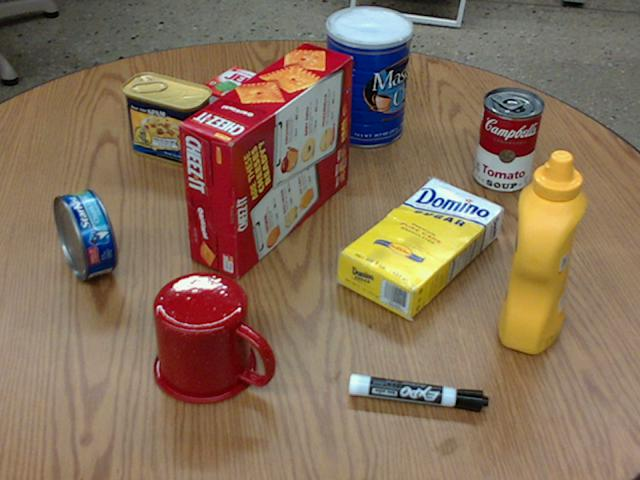cracker_box: (179, 42, 350, 278)
gelatin_box: (199, 65, 285, 120)
large_marker: (348, 374, 488, 411)
master_chef_can: (323, 6, 411, 146)
mug: (153, 271, 271, 403)
mustard_bottle: (499, 151, 587, 353)
potted_meat_can: (122, 71, 211, 164)
sugar_box: (336, 179, 503, 316)
tomato_soup_can: (474, 87, 544, 191)
tuna_fish_can: (53, 189, 118, 279)
